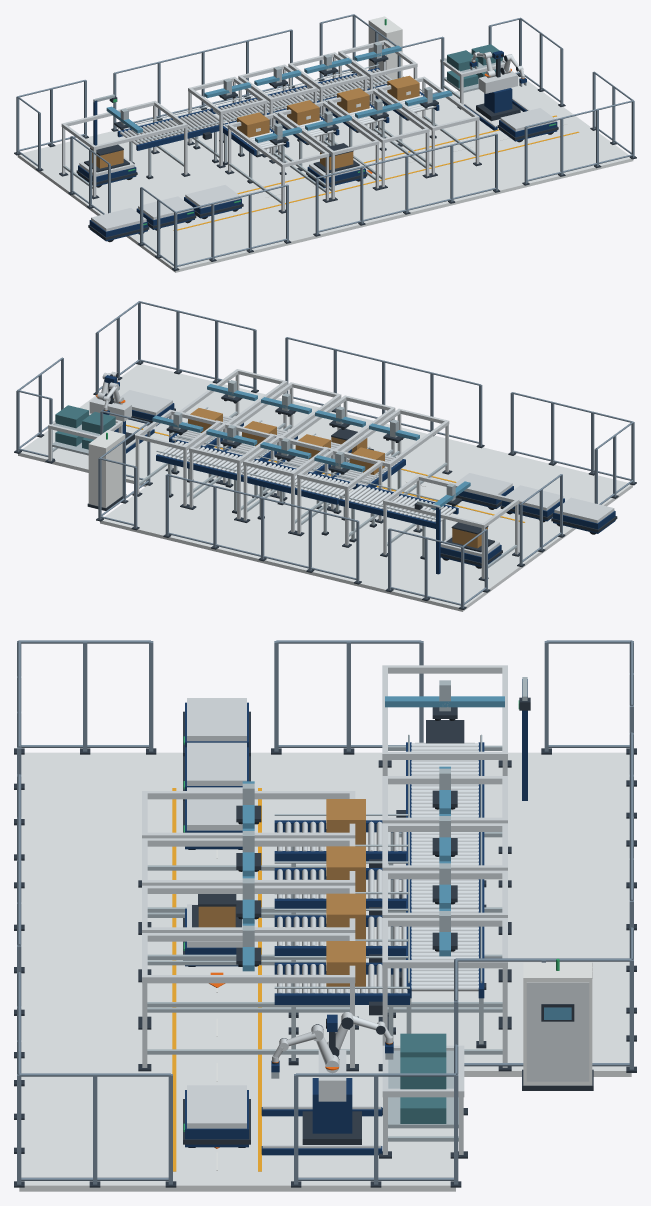
The model's file is SORT.glb.
3 renders of one model, top to bottom at view 1: azimuth 30°, elevation 25°; view 2: azimuth 150°, elevation 25°; view 3: azimuth 270°, elevation 25°, orthographic. The views are drawn at different scales.
Visible parts, largest first — view 1: ZoneBase_001.002, Enclosure_001.004, TopCover_002.002, TopCover_002.006, TopCover_002.004, TopCover_002.003, RouteEdge_001.004, Box_001.001, Box_001, Box_001.002, Box_001.003, Torso_003 (+14 smaller); view 2: ZoneBase_001.002, Enclosure_001.004, TopCover_002.002, TopCover_002.006, TopCover_002.003, TopCover_002.004, SideRail_001.016, SideRail_001.018, SideRail_001.020, PartBin_016.003, Torso_003, MobileBase_001.002 (+8 smaller); view 3: ZoneBase_001.002, Door_003.004, TopCover_002.006, TopCover_002.002, TopCover_002.003, Enclosure_001.004, Side_005.033, TopCover_002.004, Side_005.024, Side_005.028, Side_005.032, Side_005.020 (+38 smaller).
Part boxes in pixels (x1,y1,x2,y2): ZoneBase_001.002: [17, 72, 633, 272]; Enclosure_001.004: [368, 16, 402, 79]; TopCover_002.002: [91, 208, 146, 231]; TopCover_002.006: [500, 108, 555, 131]; TopCover_002.004: [185, 185, 240, 208]; TopCover_002.003: [138, 196, 193, 219]; RouteEdge_001.004: [173, 131, 579, 230]; Box_001.001: [287, 100, 319, 125]; Box_001: [237, 112, 269, 137]; Box_001.002: [337, 88, 369, 113]; Box_001.003: [387, 75, 419, 100]; Torso_003: [478, 71, 517, 93]; ZoneBase_001.002: [18, 364, 632, 611]; Enclosure_001.004: [88, 430, 125, 507]; TopCover_002.002: [554, 497, 614, 523]; TopCover_002.006: [120, 390, 172, 415]; TopCover_002.003: [505, 485, 563, 510]; TopCover_002.004: [454, 473, 512, 494]; SideRail_001.016: [338, 499, 435, 528]; SideRail_001.018: [248, 476, 338, 504]; SideRail_001.020: [156, 454, 248, 482]; PartBin_016.003: [55, 405, 88, 428]; Torso_003: [89, 397, 131, 421]; MobileBase_001.002: [553, 510, 615, 533]; ZoneBase_001.002: [19, 752, 631, 1191]; Door_003.004: [526, 982, 589, 1081]; TopCover_002.006: [187, 1085, 246, 1128]; TopCover_002.002: [187, 698, 246, 741]; TopCover_002.003: [187, 742, 246, 785]; Enclosure_001.004: [523, 962, 592, 1085]; Side_005.033: [142, 975, 355, 983]; TopCover_002.004: [187, 787, 242, 830]; Side_005.024: [142, 838, 355, 846]; Side_005.028: [142, 885, 355, 893]; Side_005.032: [142, 933, 355, 941]; Side_005.020: [142, 791, 355, 799].
Size of the model in its own units: 16.56 by 2.36 by 9.45.
